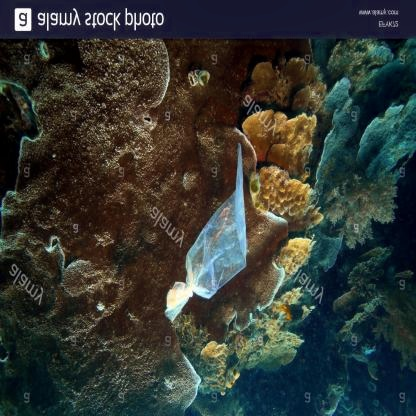pbag: (157, 132, 254, 324)
